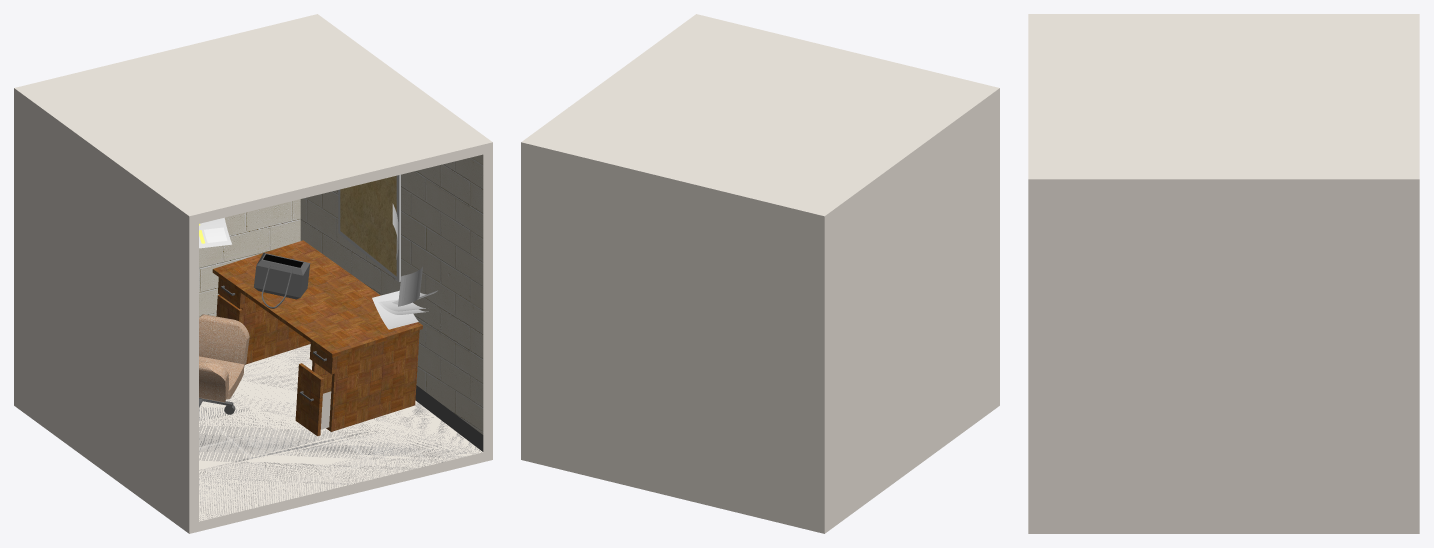
The model's file is environment4.gltf.
3 renders of one model, left to right at view 1: azimuth 30°, elevation 25°; view 2: azimuth 150°, elevation 25°; view 3: azimuth 270°, elevation 25°, orthographic. The views are drawn at different scales.
Parts seen in each view (by area): view 1: SketchUp, SketchUp.002, SketchUp.003, group_3, group_8.001, group_1, group_6, group_4, SketchUp.001, group_8, group_17, group_13; view 2: SketchUp; view 3: SketchUp.
Boxes of the visible parts, bbox=[...] form: SketchUp: bbox=[14, 14, 492, 533]; SketchUp.002: bbox=[199, 154, 483, 434]; SketchUp.003: bbox=[199, 344, 482, 521]; group_3: bbox=[212, 240, 422, 431]; group_8.001: bbox=[340, 175, 396, 276]; group_1: bbox=[199, 314, 249, 402]; group_6: bbox=[253, 253, 310, 299]; group_4: bbox=[295, 363, 323, 436]; SketchUp.001: bbox=[415, 385, 483, 451]; group_8: bbox=[338, 174, 400, 281]; group_17: bbox=[372, 290, 418, 329]; group_13: bbox=[398, 267, 422, 306]; SketchUp: bbox=[521, 14, 999, 533]; SketchUp: bbox=[1028, 14, 1419, 533].
Size of the model in its own units: 6.5 by 6.5 by 6.5.
Materials: 12 (5 with a texture image).
